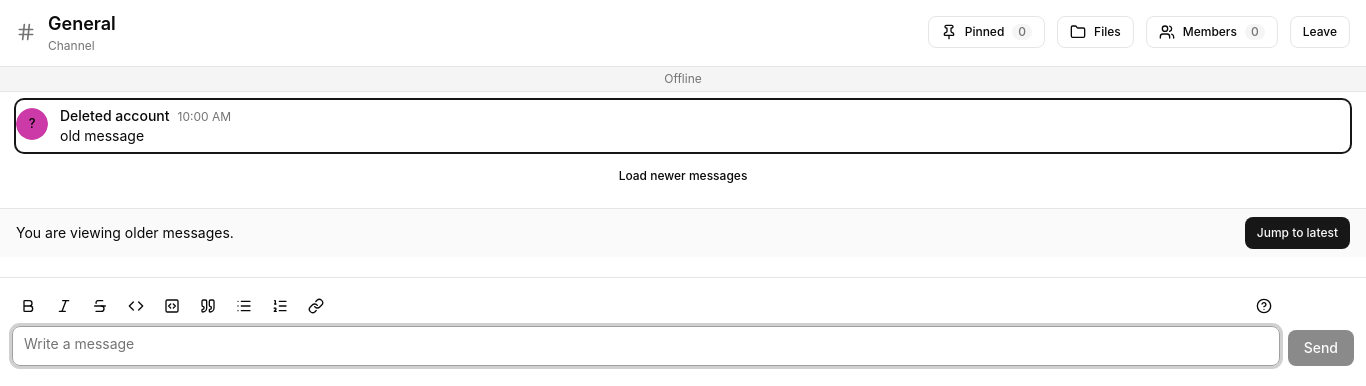
Test case: jumps back to the newest messages, dropping at from the URL
Step 1. Click the button "Jump to latest" → (1297, 233), box x1=1245 y1=217 x2=1350 y2=249
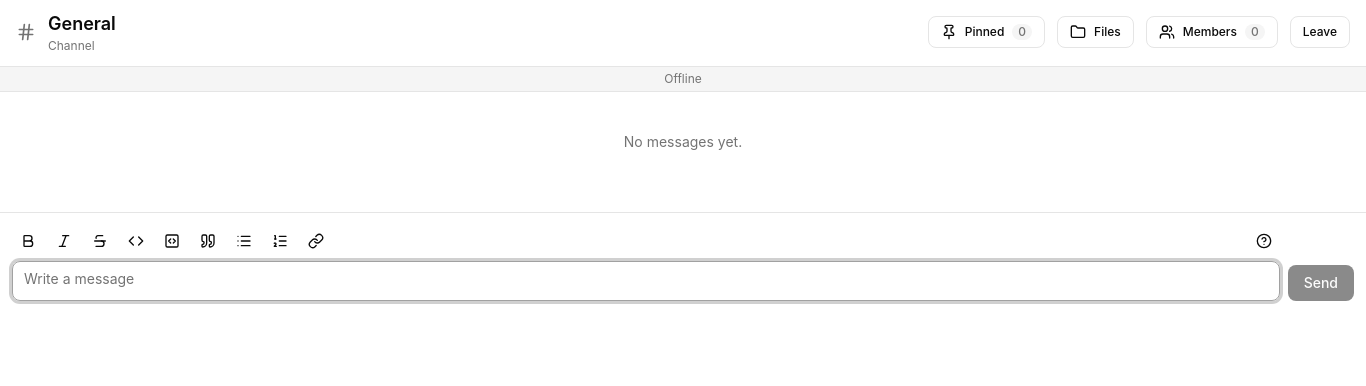
Now the button "Jump to latest" is gone
Now the text "No messages yet." is shown, box x1=624 y1=133 x2=742 y2=150
